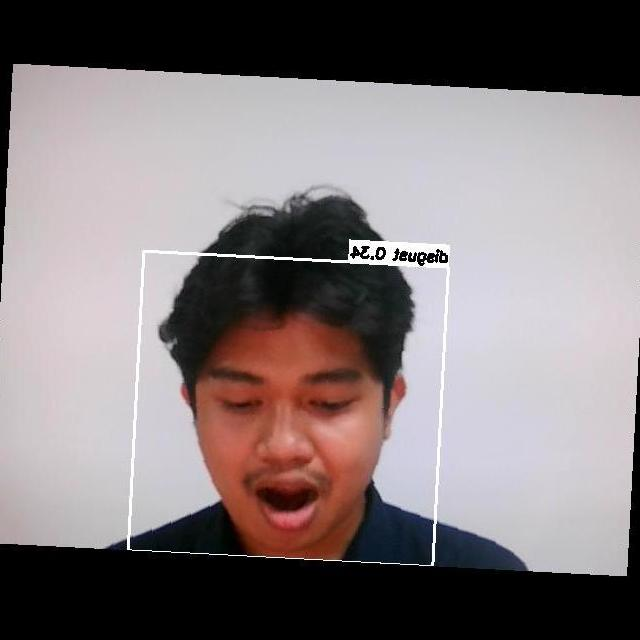Surprised: (181, 348, 376, 538)
